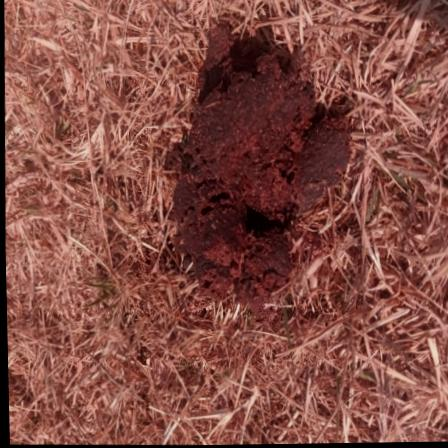dog-poop: (138, 21, 358, 331)
